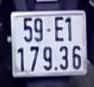1: (16, 45, 25, 74), (66, 16, 74, 42)
3: (57, 44, 70, 71)
5: (22, 16, 33, 43)
6: (72, 43, 83, 71)
7: (28, 45, 39, 73)
9: (41, 43, 54, 72), (34, 15, 46, 43)
E: (54, 15, 65, 43)
